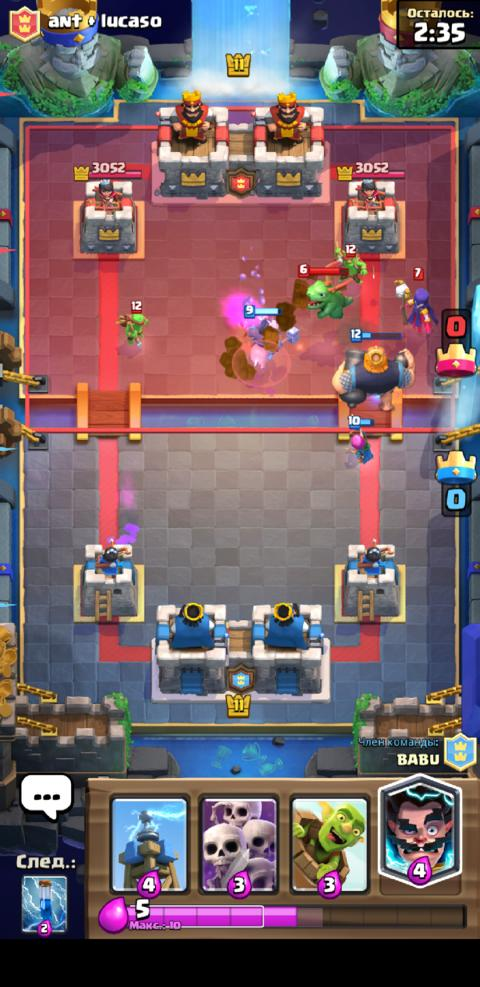ally_archer: (344, 414, 378, 462)
ally_hog_rider: (240, 303, 300, 369)
ally_royale_giant: (330, 327, 416, 415)
enemy_baby_dragon: (296, 262, 355, 320)
enemy_spear_goblin: (116, 299, 148, 350), (332, 241, 367, 285)
enemy_witch: (392, 265, 439, 334)
